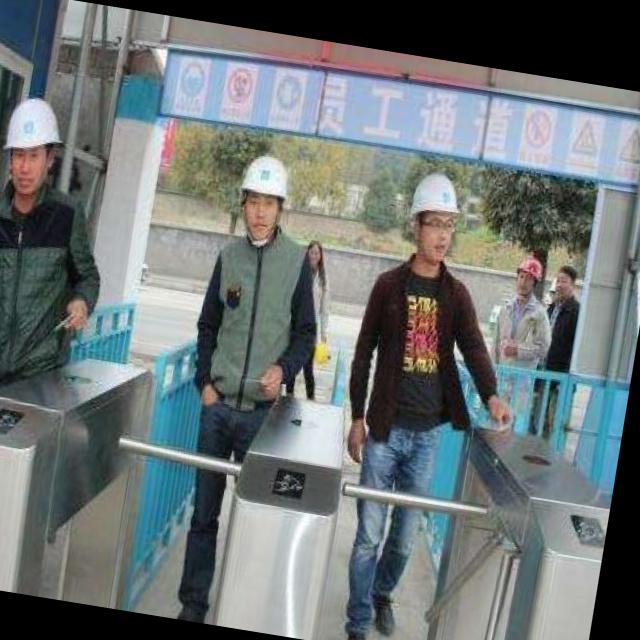Sin_Chaleco: (347, 252, 477, 437), (192, 228, 316, 403)
